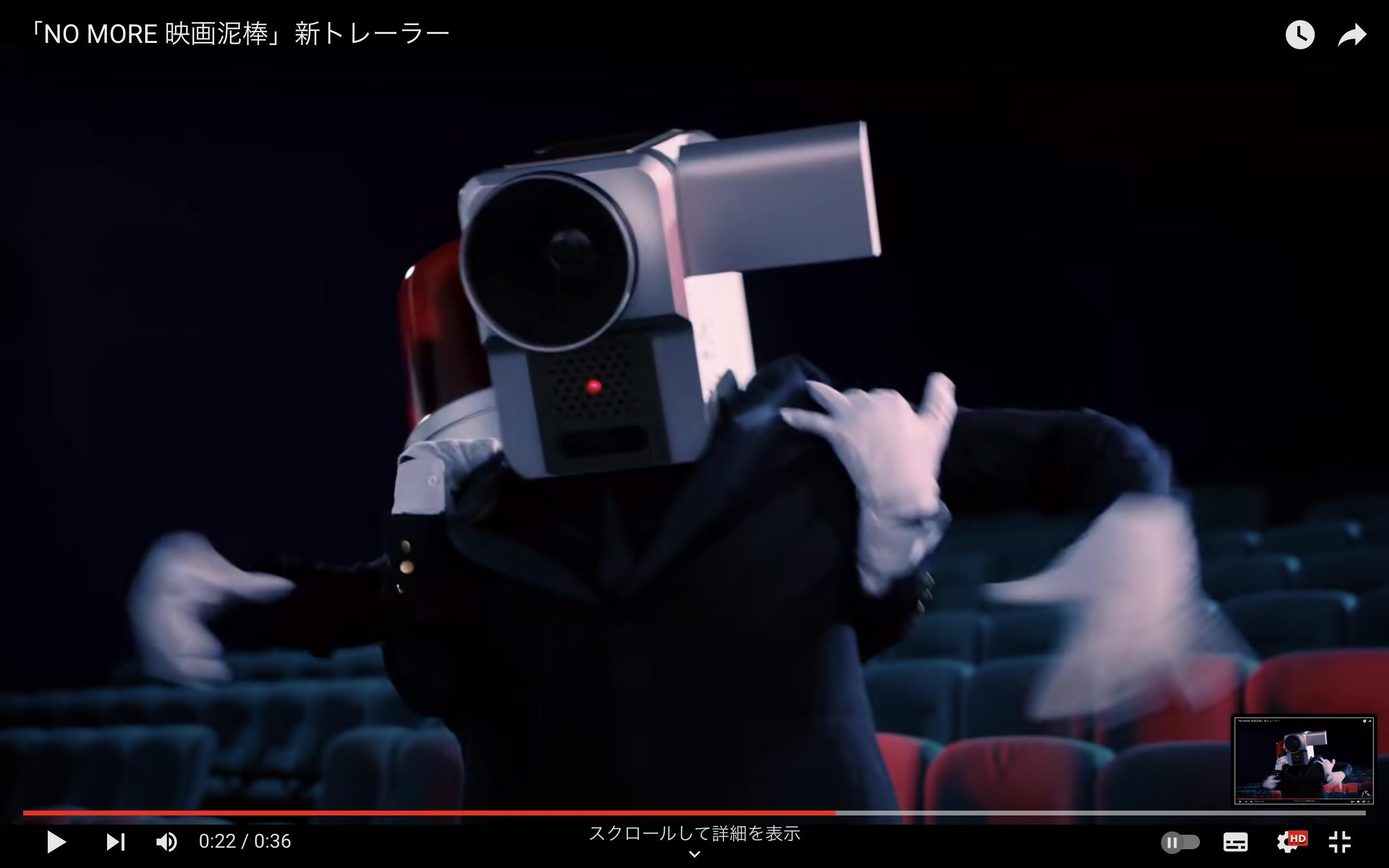no more kid: (453, 109, 892, 488)
